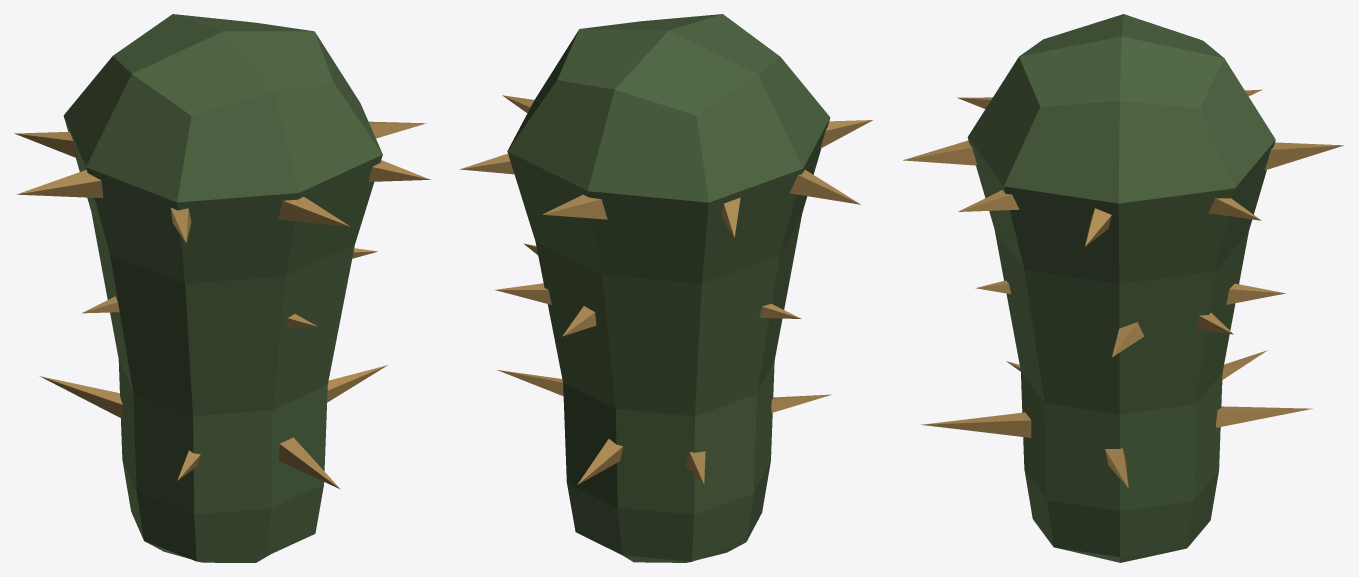
The model's file is Cactus_2.glb.
3 renders of one model, left to right at view 1: azimuth 30°, elevation 25°; view 2: azimuth 150°, elevation 25°; view 3: azimuth 270°, elevation 25°, orthographic.
Parts seen in each view (by area): view 1: DarkGreen2, LightOrange; view 2: DarkGreen2, LightOrange; view 3: DarkGreen2, LightOrange.
Boxes of the visible parts, x1,y1,x2,y2 form: DarkGreen2: [63, 14, 382, 562]; LightOrange: [14, 121, 430, 489]; DarkGreen2: [507, 14, 830, 562]; LightOrange: [459, 95, 872, 484]; DarkGreen2: [967, 14, 1275, 562]; LightOrange: [903, 89, 1343, 488].
Bounding box in the file's own units: 0.2978 × 0.3779 × 0.3011.
